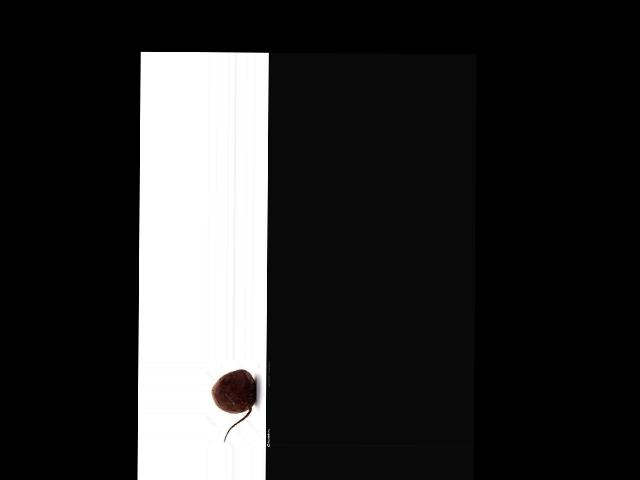beet: (212, 369, 256, 442)
